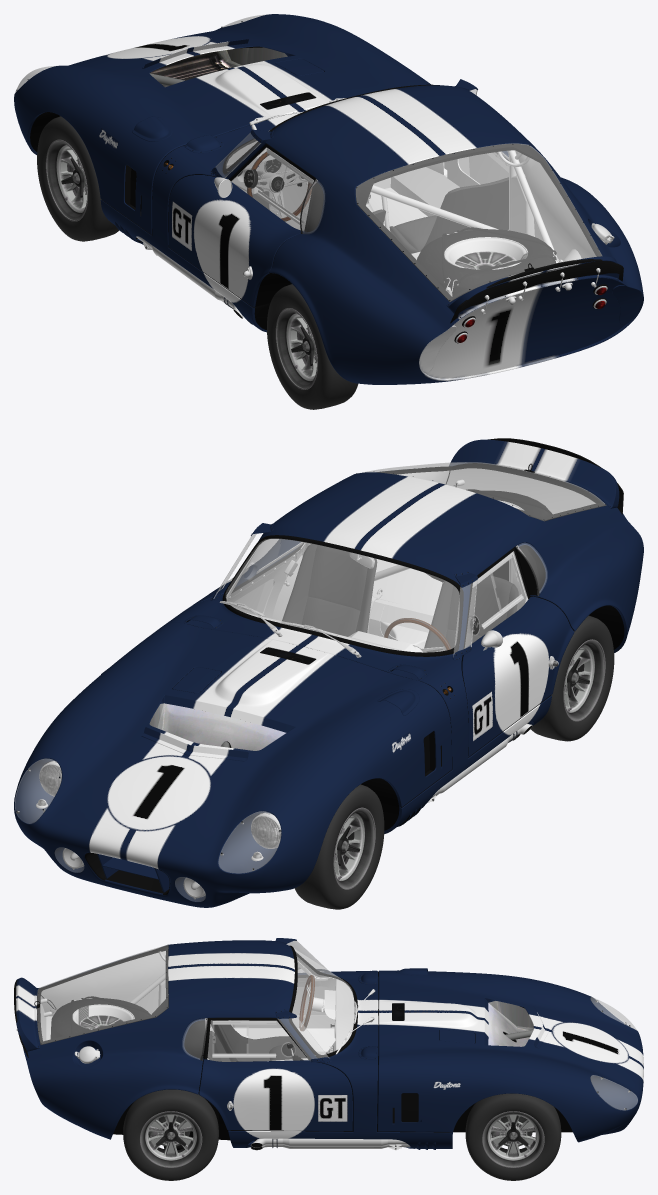
Rendered from 1965 Shelby Cobra Daytona Coupe.glb.
3 renders of one model, top to bottom at view 1: azimuth 30°, elevation 25°; view 2: azimuth 150°, elevation 25°; view 3: azimuth 270°, elevation 25°, orthographic. The views are drawn at different scales.
Parts seen in each view (by area): view 1: she_cobradaytona_65_lod0_body_body # 12179 vertices 24231 fa, she_cobradaytona_65_cockpit_hooda_body # 8597 vertices 17773, she_cobradaytona_65_lod0_lexanR_window # 723 vertices 1546 f, she_cobradaytona_65_lod0_body_body_2 # 1593 vertices 2669 fa, she_cobradaytona_65_cockpit_interior_metal # 14389 vertices , she_cobradaytona_65_cockpit_interior_rubber # 1937 vertices , she_cobradaytona_65_cockpit_seatR_leather # 721 vertices 985, Cylinder.001, Cylinder, she_cobradaytona_65_cockpit_lexanLF_window # 917 vertices 11, she_cobradaytona_65_lod0_wheel_chrome_rim # 145 vertices 14., she_cobradaytona_65_lod0_wheel_chrome_rim # 145 vertices 148 (+11 smaller); view 2: she_cobradaytona_65_cockpit_hooda_body # 8597 vertices 17773, she_cobradaytona_65_lod0_body_body # 12179 vertices 24231 fa, she_cobradaytona_65_cockpit_lexanF_window # 459 vertices 808, she_cobradaytona_65_cockpit_interior_metal # 14389 vertices , she_cobradaytona_65_cockpit_seatR_leather # 721 vertices 985, she_cobradaytona_65_lod0_lexanR_window # 723 vertices 1546 f, she_cobradaytona_65_lod0_winga_body_2 # 1250 vertices 2587 f, Cylinder, she_cobradaytona_65_cockpit_a_pillar_misc # 1340 vertices 18, Cylinder.001, she_cobradaytona_65_cockpit_seatL_leather # 721 vertices 101, she_cobradaytona_65_cockpit_lexanLF_window # 917 vertices 11 (+17 smaller); view 3: she_cobradaytona_65_lod0_body_body # 12179 vertices 24231 fa, she_cobradaytona_65_cockpit_hooda_body # 8597 vertices 17773, she_cobradaytona_65_cockpit_interior_metal # 14389 vertices , she_cobradaytona_65_lod0_lexanR_window # 723 vertices 1546 f, she_cobradaytona_65_lod0_wheel_chrome_rim # 145 vertices 14. (×2), she_cobradaytona_65_cockpit_lexanF_window # 459 vertices 808, Cylinder.002, Cylinder.003, she_cobradaytona_65_cockpit_lexanRF_window # 927 vertices 10, she_cobradaytona_65_cockpit_interior_rubber # 1937 vertices , she_cobradaytona_65_lod0_body_black # 1408 vertices 1670 fac, she_cobradaytona_65_cockpit_seatL_leather # 721 vertices 101 (+15 smaller).
Boxes of the visible parts, x1=… form: she_cobradaytona_65_lod0_body_body # 12179 vertices 24231 fa: x1=100, y1=79, x2=643, y2=384; she_cobradaytona_65_cockpit_hooda_body # 8597 vertices 17773: x1=14, y1=14, x2=430, y2=234; she_cobradaytona_65_lod0_lexanR_window # 723 vertices 1546 f: x1=356, y1=143, x2=601, y2=301; she_cobradaytona_65_lod0_body_body_2 # 1593 vertices 2669 fa: x1=419, y1=277, x2=643, y2=380; she_cobradaytona_65_cockpit_interior_metal # 14389 vertices : x1=226, y1=141, x2=596, y2=296; she_cobradaytona_65_cockpit_interior_rubber # 1937 vertices : x1=226, y1=139, x2=601, y2=301; she_cobradaytona_65_cockpit_seatR_leather # 721 vertices 985: x1=389, y1=177, x2=508, y2=253; Cylinder.001: x1=267, y1=284, x2=358, y2=409; Cylinder: x1=37, y1=116, x2=119, y2=241; she_cobradaytona_65_cockpit_lexanLF_window # 917 vertices 11: x1=231, y1=147, x2=313, y2=230; she_cobradaytona_65_lod0_wheel_chrome_rim # 145 vertices 14.: x1=275, y1=308, x2=317, y2=389; she_cobradaytona_65_lod0_wheel_chrome_rim # 145 vertices 148: x1=45, y1=139, x2=87, y2=221; she_cobradaytona_65_cockpit_hooda_body # 8597 vertices 17773: x1=14, y1=622, x2=451, y2=907; she_cobradaytona_65_lod0_body_body # 12179 vertices 24231 fa: x1=165, y1=463, x2=643, y2=833; she_cobradaytona_65_cockpit_lexanF_window # 459 vertices 808: x1=226, y1=538, x2=459, y2=652; she_cobradaytona_65_cockpit_interior_metal # 14389 vertices : x1=226, y1=468, x2=595, y2=652; she_cobradaytona_65_cockpit_seatR_leather # 721 vertices 985: x1=282, y1=544, x2=377, y2=636; she_cobradaytona_65_lod0_lexanR_window # 723 vertices 1546 f: x1=356, y1=462, x2=606, y2=521; she_cobradaytona_65_lod0_winga_body_2 # 1250 vertices 2587 f: x1=449, y1=439, x2=619, y2=508; Cylinder: x1=294, y1=784, x2=384, y2=909; she_cobradaytona_65_cockpit_a_pillar_misc # 1340 vertices 18: x1=149, y1=524, x2=539, y2=750; Cylinder.001: x1=527, y1=615, x2=614, y2=741; she_cobradaytona_65_cockpit_seatL_leather # 721 vertices 101: x1=424, y1=575, x2=518, y2=652; she_cobradaytona_65_cockpit_lexanLF_window # 917 vertices 11: x1=465, y1=551, x2=527, y2=647; she_cobradaytona_65_lod0_body_body # 12179 vertices 24231 fa: x1=22, y1=938, x2=452, y2=1149; she_cobradaytona_65_cockpit_hooda_body # 8597 vertices 17773: x1=377, y1=970, x2=643, y2=1142; she_cobradaytona_65_cockpit_interior_metal # 14389 vertices : x1=40, y1=951, x2=354, y2=1061; she_cobradaytona_65_lod0_lexanR_window # 723 vertices 1546 f: x1=37, y1=945, x2=168, y2=1044; she_cobradaytona_65_lod0_wheel_chrome_rim # 145 vertices 14. (×2): x1=139, y1=1111, x2=544, y2=1167; she_cobradaytona_65_cockpit_lexanF_window # 459 vertices 808: x1=292, y1=948, x2=354, y2=1054; Cylinder.002: x1=123, y1=1089, x2=218, y2=1180; Cylinder.003: x1=465, y1=1093, x2=561, y2=1180; she_cobradaytona_65_cockpit_lexanRF_window # 927 vertices 10: x1=208, y1=1020, x2=308, y2=1061; she_cobradaytona_65_cockpit_interior_rubber # 1937 vertices : x1=36, y1=945, x2=353, y2=1060; she_cobradaytona_65_lod0_body_black # 1408 vertices 1670 fac: x1=113, y1=972, x2=572, y2=1148; she_cobradaytona_65_cockpit_seatL_leather # 721 vertices 101: x1=210, y1=1020, x2=306, y2=1061.
Bounding box in the file's own units: 1.8 × 1.22 × 4.18.
Materials: 55 (37 with a texture image).
